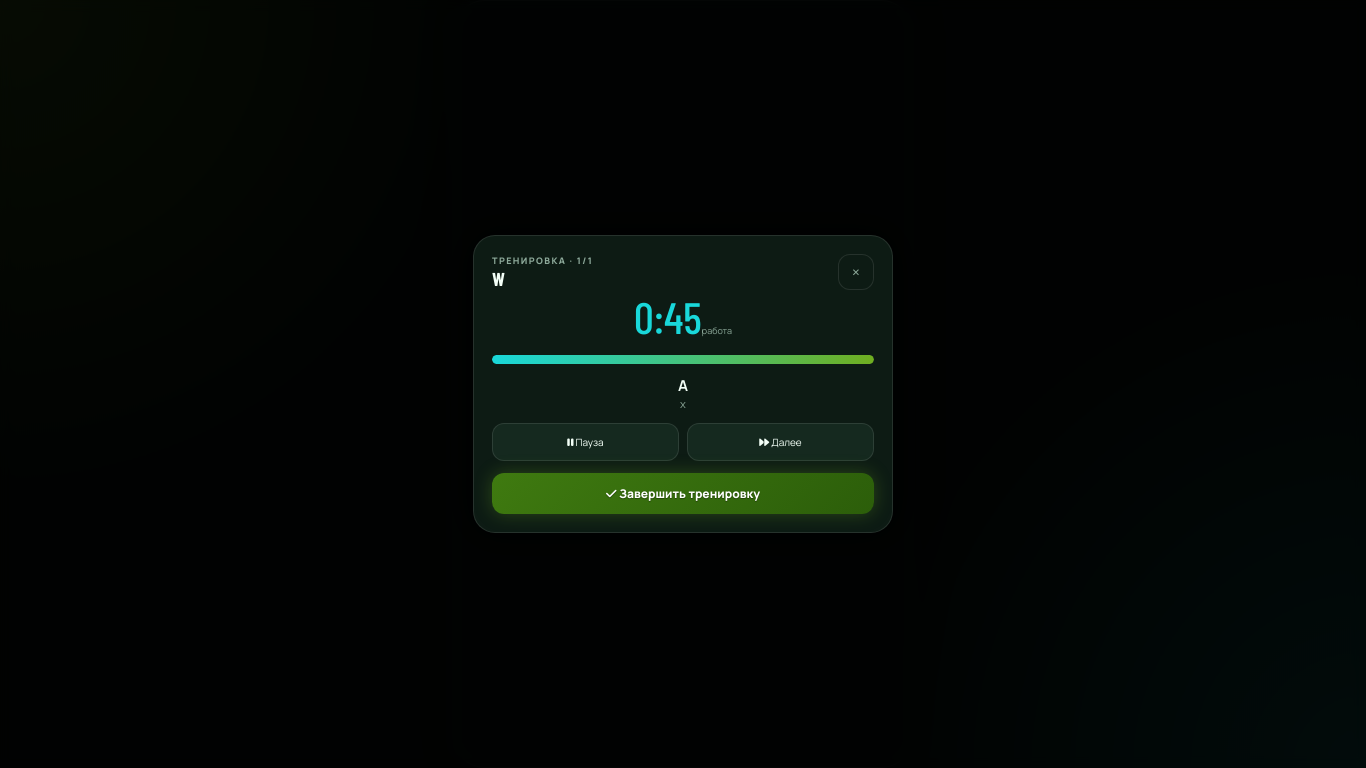
Test case: WorkoutSession › toggles the pause state
Click the button "Пауза". click: {"x": 586, "y": 442}
box: [492,423,679,461]
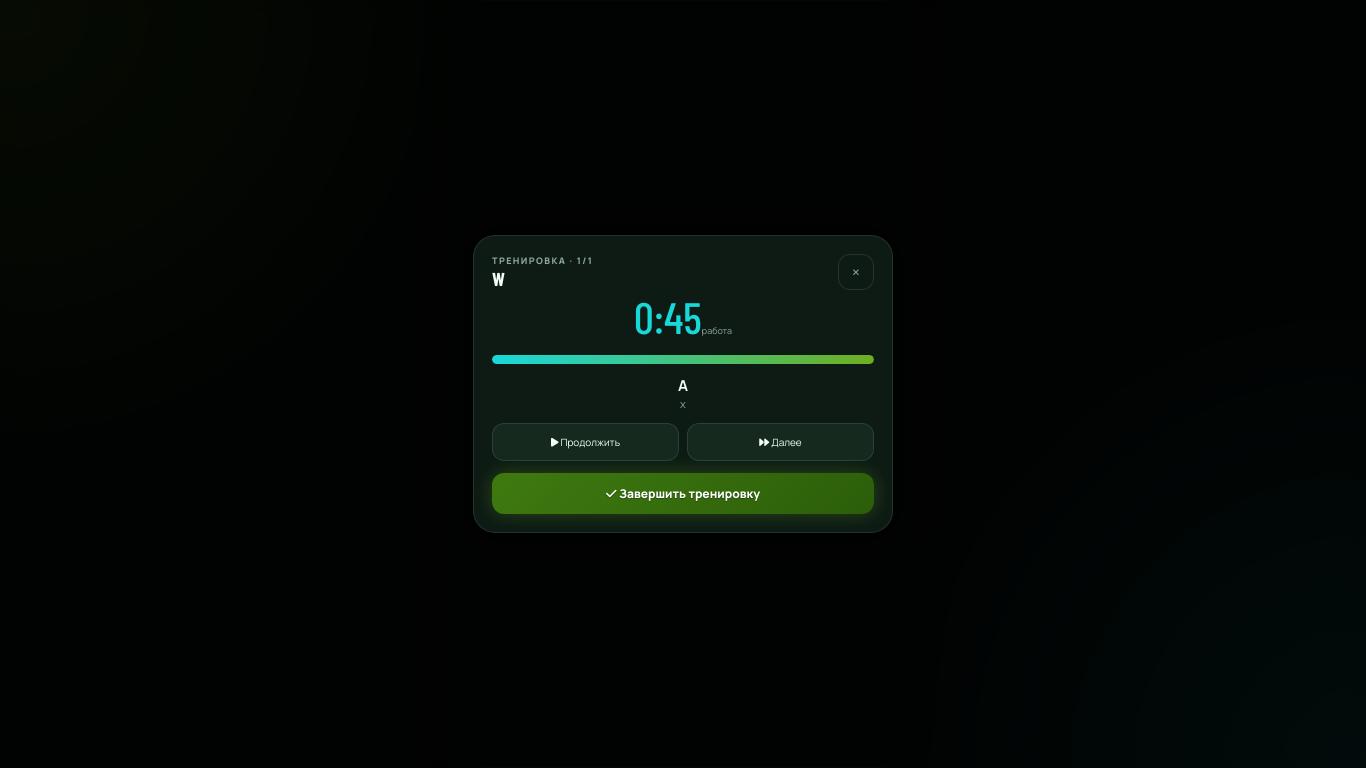
Check: the button "Продолжить" is shown, box [492,423,679,461]
